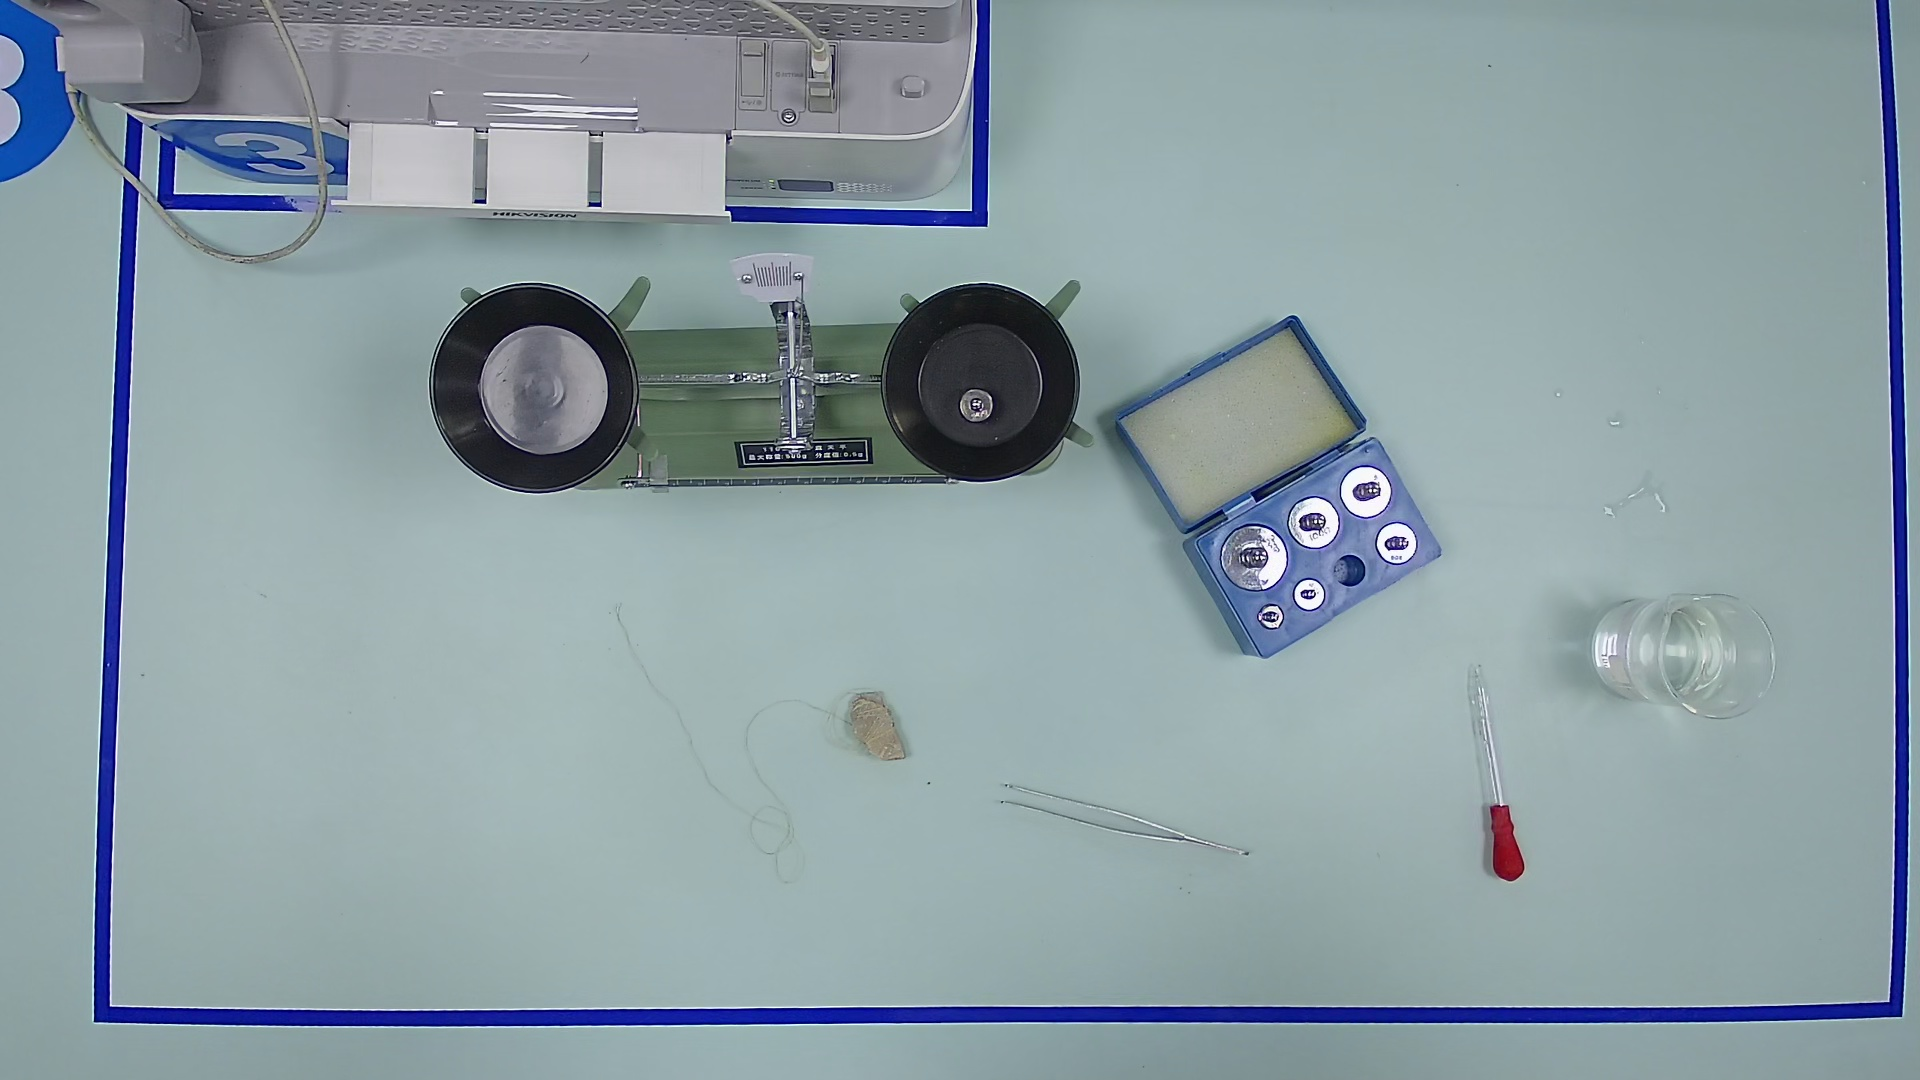bei: (1592, 575, 1778, 728)
diguan: (1439, 645, 1542, 893)
diguantou: (1477, 795, 1538, 886)
fama: (1222, 524, 1288, 591), (1337, 465, 1393, 520), (1287, 496, 1341, 550), (1374, 522, 1418, 564), (957, 388, 996, 426), (1253, 600, 1288, 637), (1291, 578, 1325, 613)
gan: (611, 446, 948, 518)
he: (1171, 429, 1464, 673)
niezi: (996, 774, 1254, 858)
pointer: (735, 249, 811, 301)
shi: (833, 682, 923, 773)
tuo: (413, 266, 659, 513), (861, 262, 1104, 506)
you: (642, 451, 676, 500)
